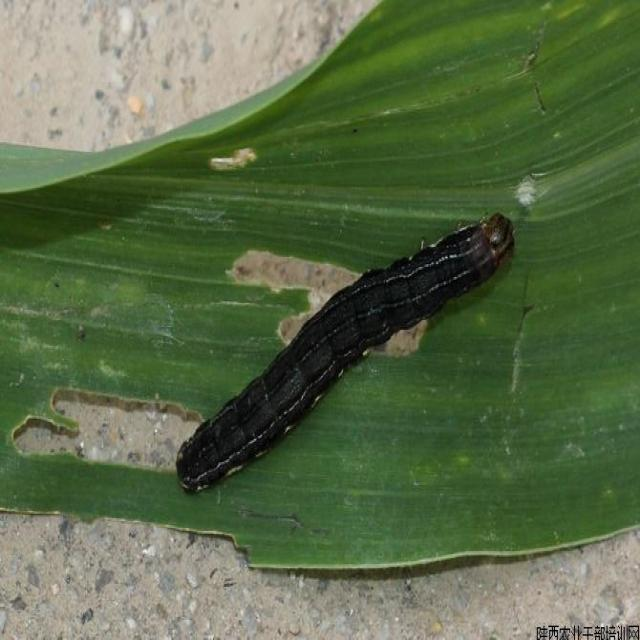armyworm: (160, 171, 535, 514)
